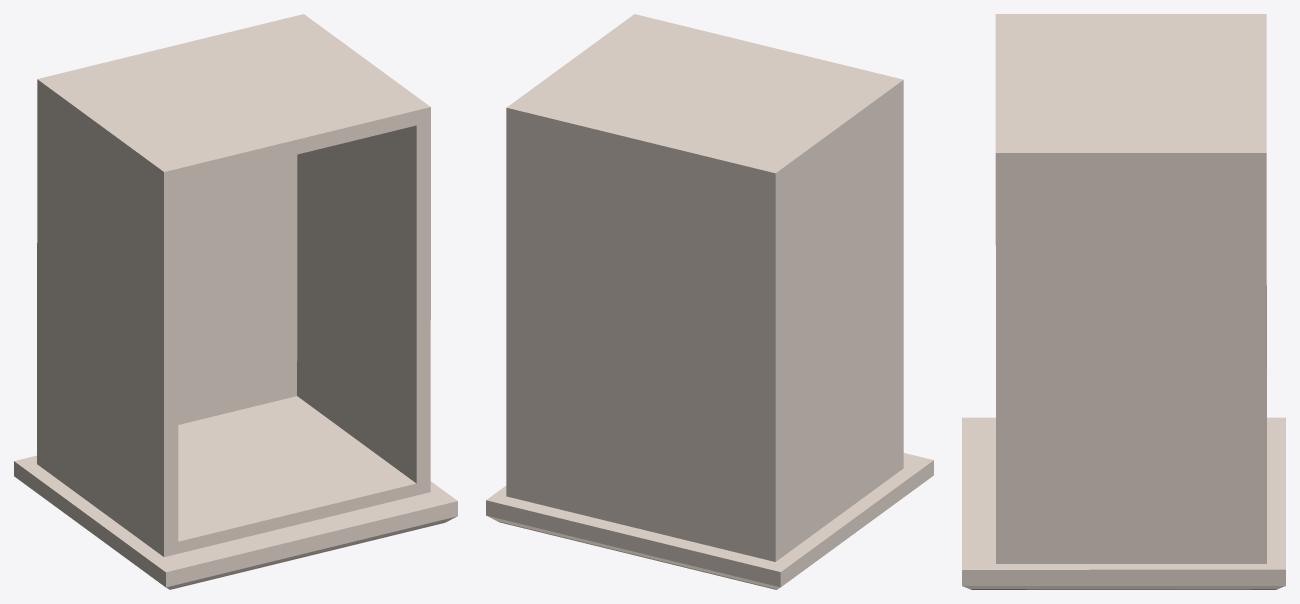
The model's file is MeshSideTableDrawer_003_6_6.obj.
The picture shows the model from 3 angles, left to right: view 1: azimuth 30°, elevation 25°; view 2: azimuth 150°, elevation 25°; view 3: azimuth 270°, elevation 25°; orthographic projection. The views are drawn at different scales.
Visible parts, largest first — view 1: SideTableDrawer_003_6; view 2: SideTableDrawer_003_6; view 3: SideTableDrawer_003_6.
Boxes of the visible parts, x1,y1,x2,y2 form: SideTableDrawer_003_6: (14,14,457,589); SideTableDrawer_003_6: (486,14,933,589); SideTableDrawer_003_6: (962,14,1285,589).
Size of the model in its own units: 0.2859 by 0.4078 by 0.2573.
